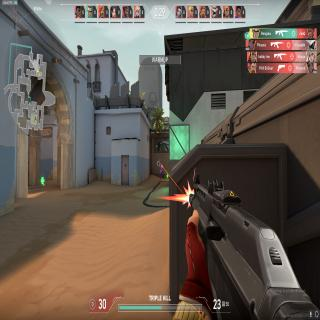ENEMY-BODY: (160, 162, 163, 182)
ENEMY-HEAD: (162, 162, 162, 165)
